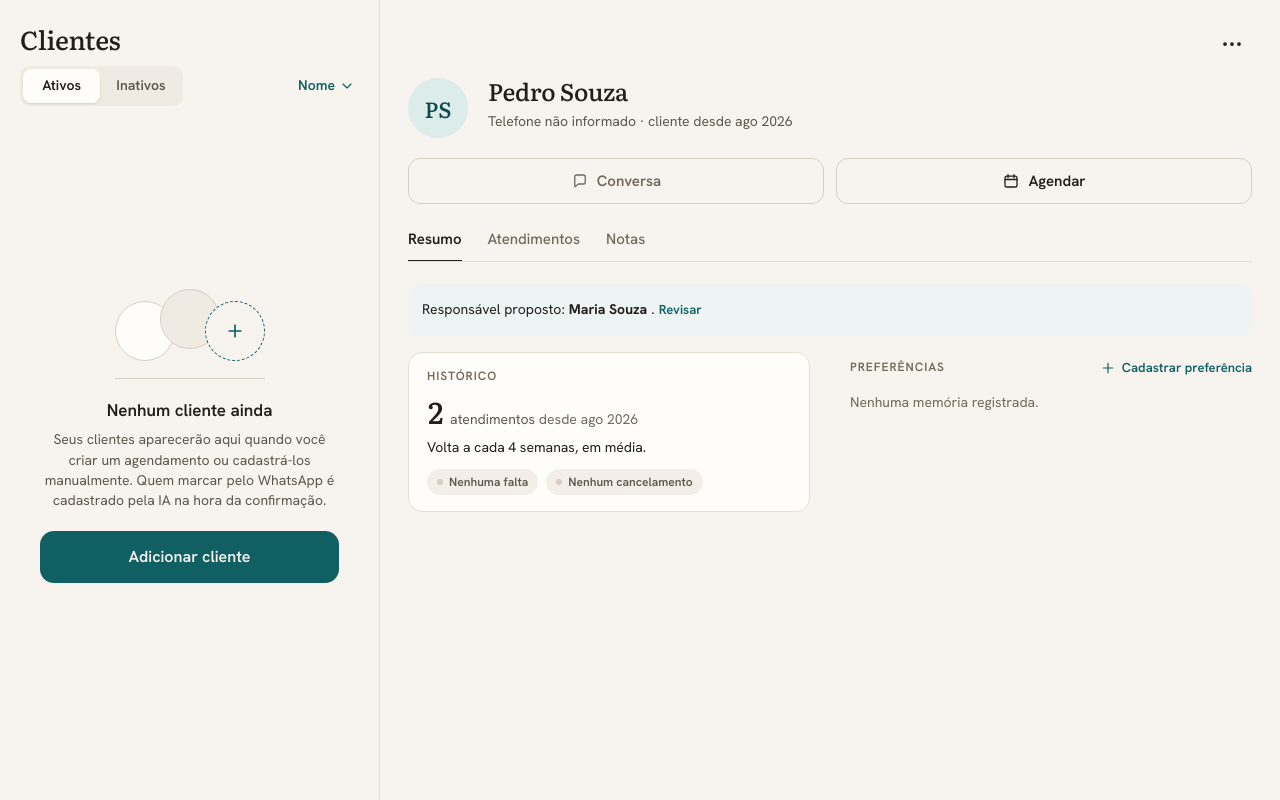
Test: Trocar o dono da conversa (escolha 2) › o resultado atrasado do próprio cliente não aparece depois de confirmar o responsável
Check: the heading "Pedro Souza" is shown, box [488,73,628,108]
What coordinates should you click on to do the following:
click the button named "Mais ações do cliente"
I would click on:
 (1232, 44)
Its box is [1212,24,1252,64].
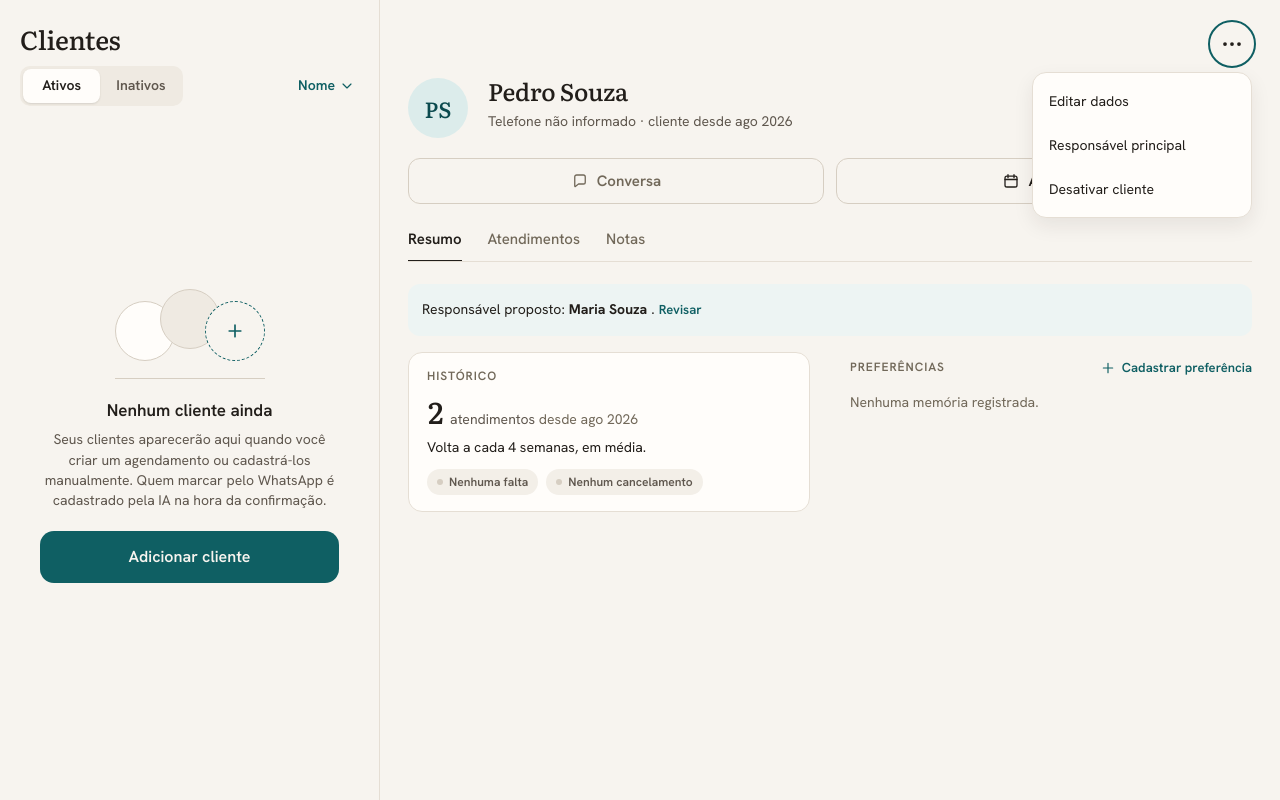
What coordinates should you click on to do the following:
click the menu item "Responsável principal"
I would click on:
 (1142, 145)
Its box is [1039,123,1245,167].
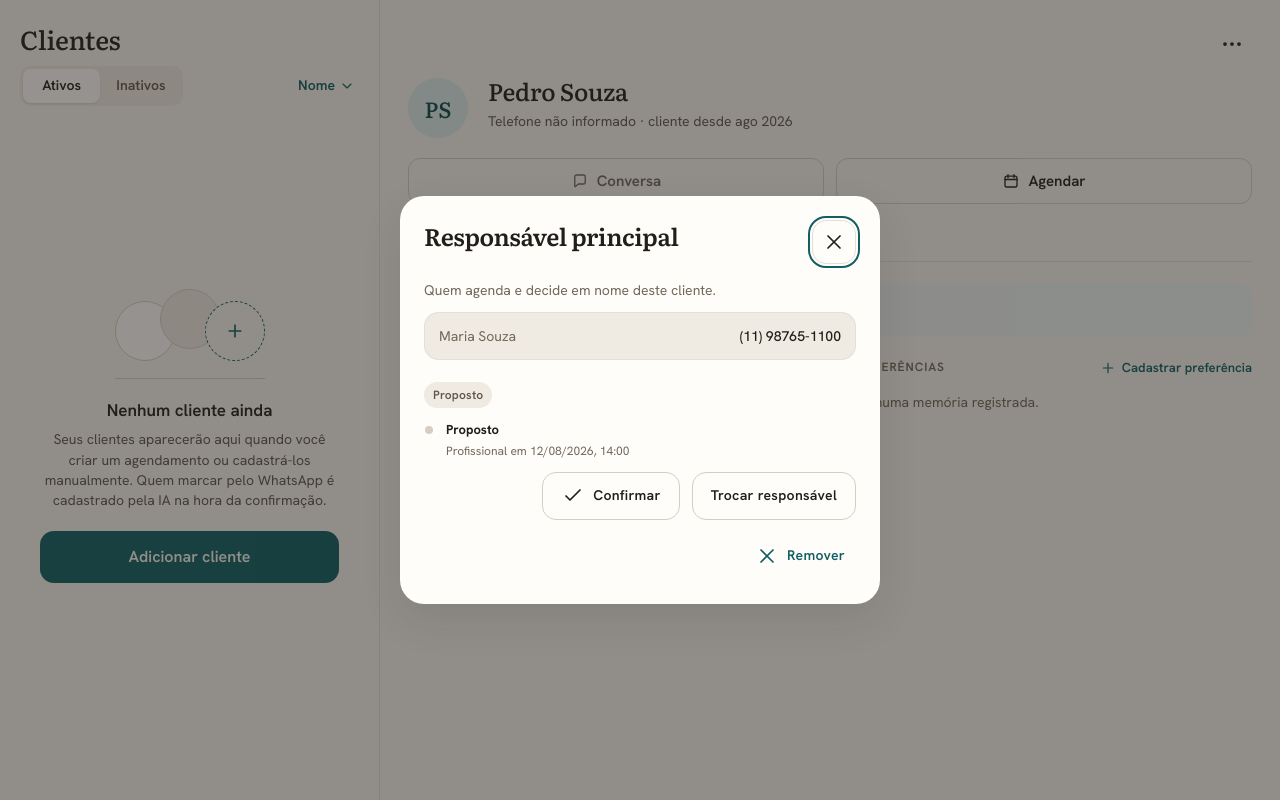
What coordinates should you click on to do the following:
click the button "Confirmar"
I would click on:
 (611, 496)
Its box is [542,472,680,520].
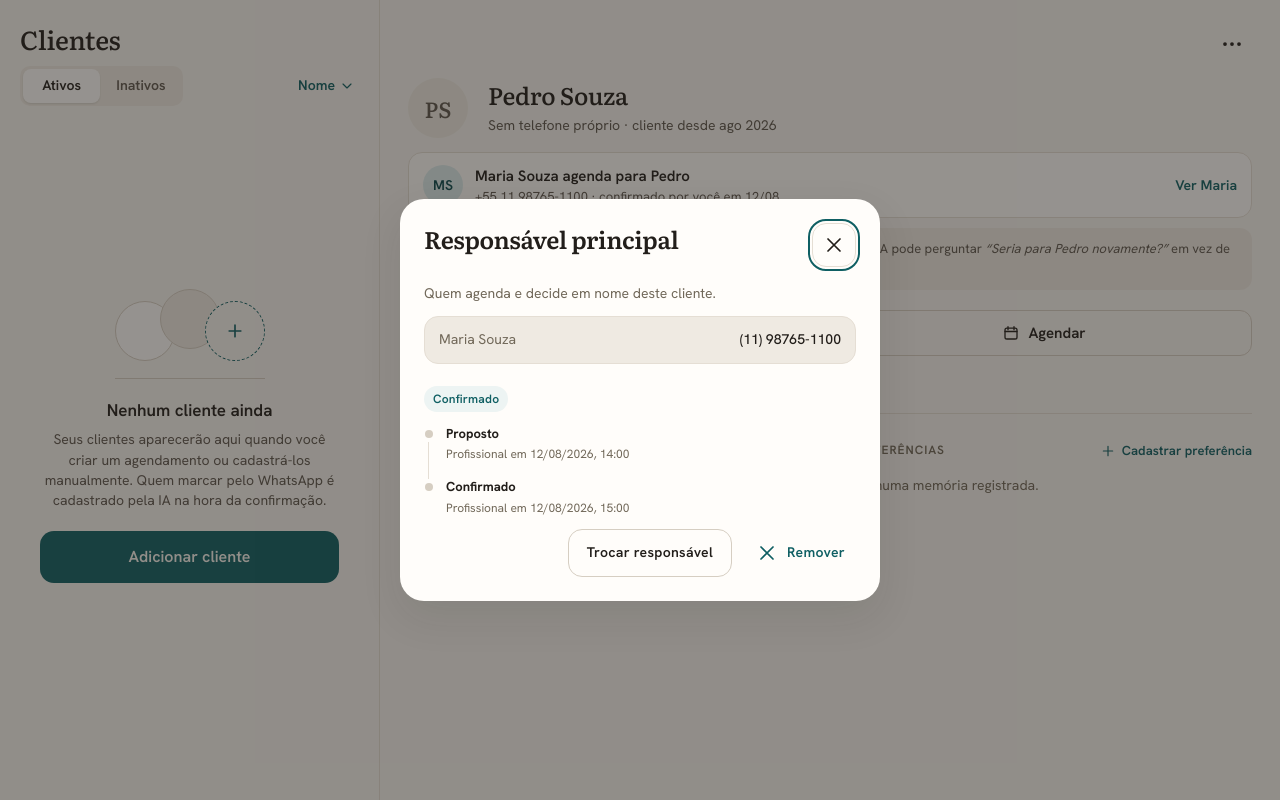
Check: the element named "Quem agenda por este cliente" is shown, box [408,152,1252,290]
